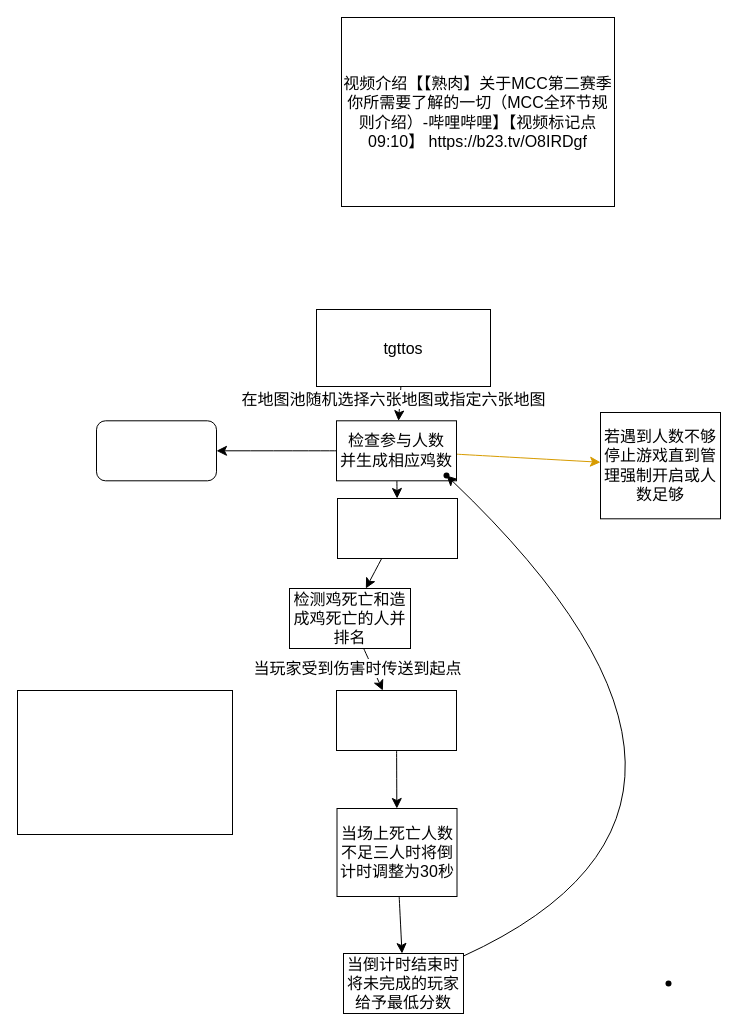
Image size: 738x1031. Some labels were removed from this diagram. The shapes that lost their labels are listed below. From the top down, each one's box as (x1, y1, x2, y2) in pixels, then its label:
(96, 420, 216, 481): 鸡的生命数只有半颗心
(336, 498, 458, 558): 开始游戏并设置1:30秒倒计时
(336, 690, 456, 750): 将已击杀鸡的玩家调整为旁观模式
(16, 690, 232, 834): 当六轮结束时计算此小游戏的分数并加入总分数中 聊天框显示此小游戏和加入此游戏后获得的分数和排名
